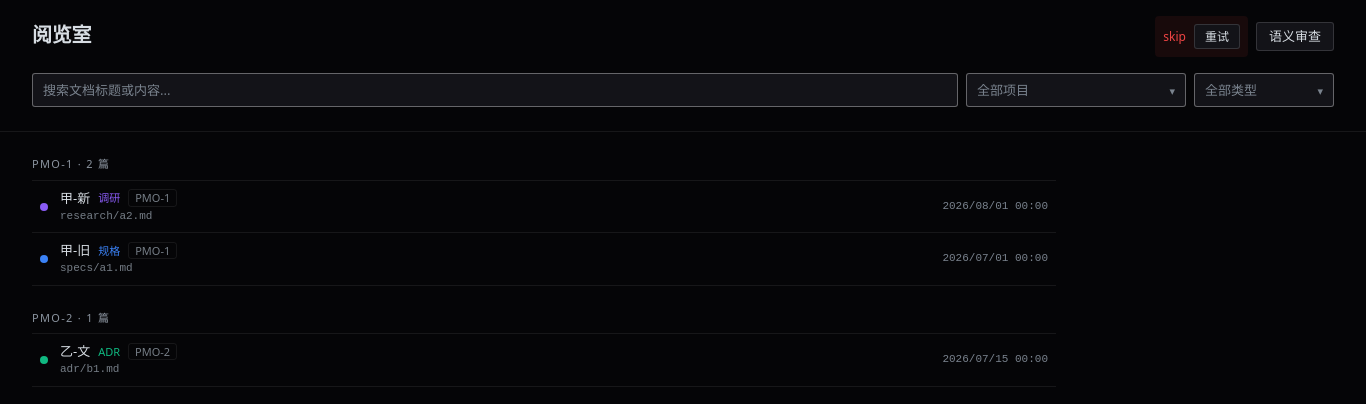
Test case: LibraryPage（#155 T5 阅览室） › E6 列表按项目分组 › 类型筛选态回退平铺：无组头
Expected: the text "甲-新" is shown, [60,189,90,207]
Click the button with aria-label "类型筛选". click: point(1264, 90)
box: [1194,73,1334,107]
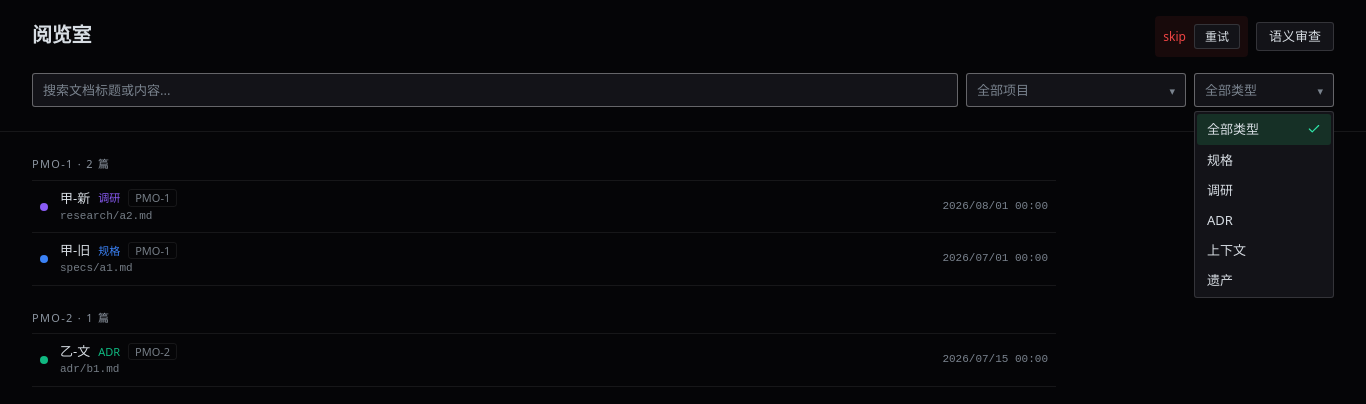
Click the option "规格". click: point(1220, 160)
box: [1207,150,1233,168]
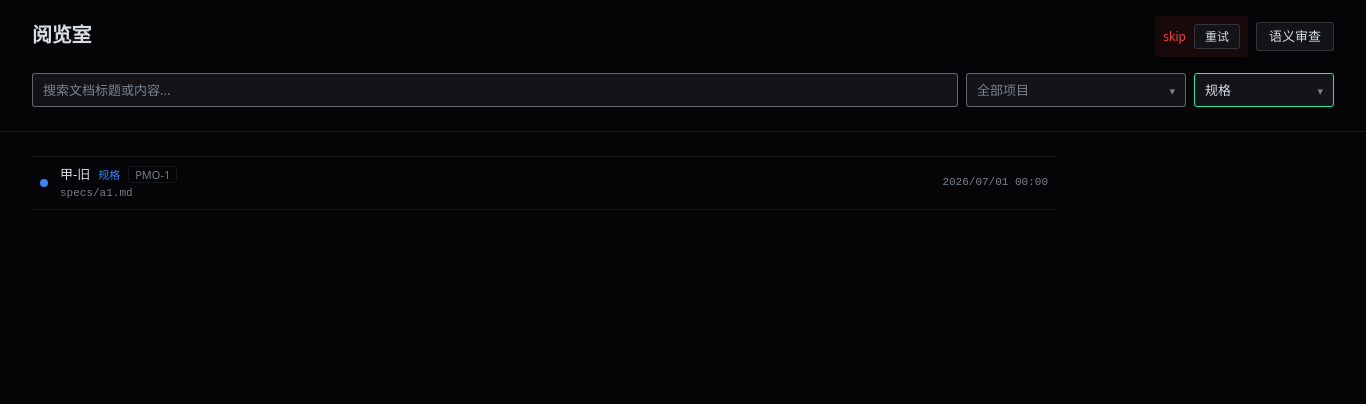
Expected: the text "甲-旧" is shown, [60,165,90,184]
Expected: the heading "PMO-1 · 2 篇" is gone
Expected: the link "乙-文" is gone
